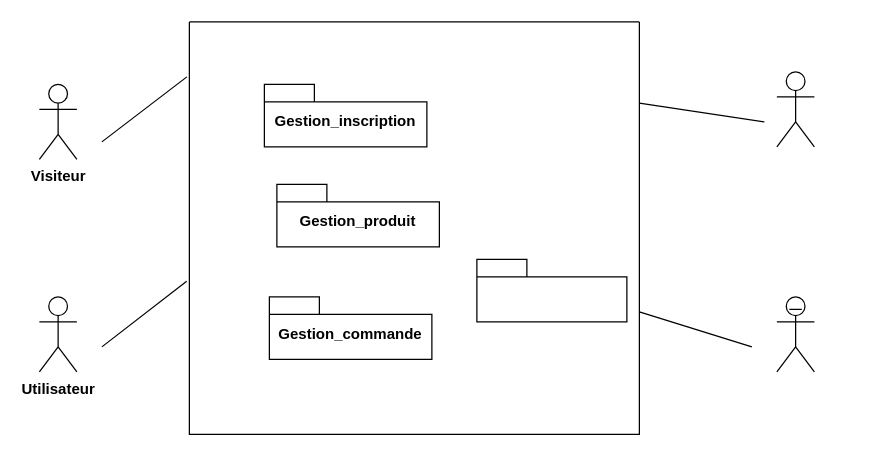
Image size: 884x456. Some labels were removed from this diagram. Each missing label, with the box of its shape:
Admin: (776, 71, 814, 147)
Gestion_panier: (476, 258, 627, 322)
Systeme_payement: (776, 296, 814, 372)
